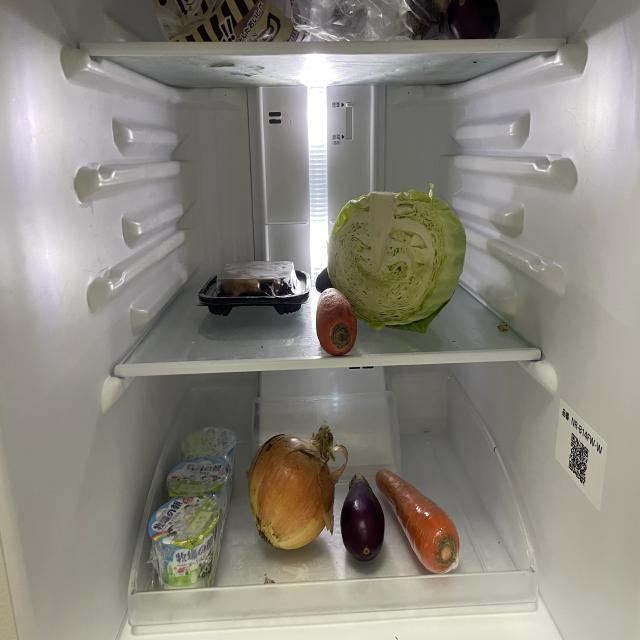cabbage: (330, 195, 466, 331)
carrot: (374, 468, 462, 573), (316, 292, 361, 360)
eggplant: (340, 470, 387, 561), (449, 2, 505, 44), (401, 1, 448, 43)
onion: (247, 422, 336, 548)
